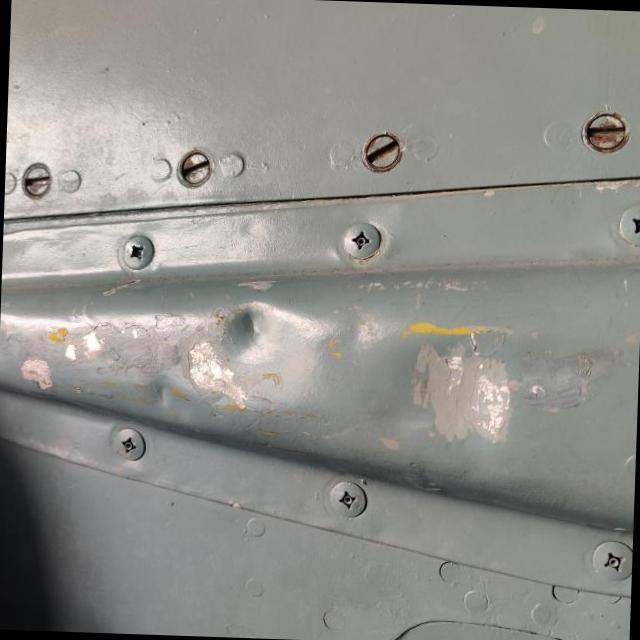Dent: (196, 274, 322, 392)
